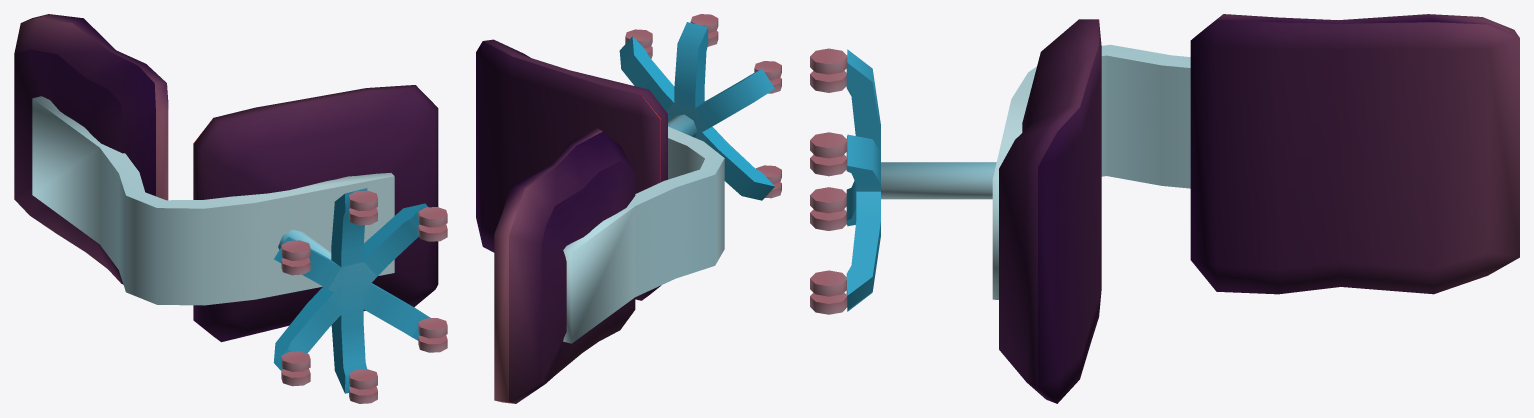
Rendered from ScienceChair.fbx.
3 renders of one model, left to right at view 1: azimuth 30°, elevation 25°; view 2: azimuth 150°, elevation 25°; view 3: azimuth 270°, elevation 25°, orthographic. The views are drawn at different scales.
Visible parts, largest first — view 1: Holder, Bottom Cushion, Top Cushion, Wheel Holder, Wheels, Adjuster; view 2: Top Cushion, Bottom Cushion, Holder, Wheel Holder, Wheels, Adjuster; view 3: Top Cushion, Bottom Cushion, Holder, Wheel Holder, Wheels, Adjuster.
Part boxes in pixels (<box>): Holder: <box>32,96,394,305</box>; Bottom Cushion: <box>193,85,438,342</box>; Top Cushion: <box>14,14,168,284</box>; Wheel Holder: <box>273,188,430,393</box>; Wheels: <box>281,190,447,403</box>; Adjuster: <box>278,229,331,259</box>; Top Cushion: <box>494,127,635,403</box>; Bottom Cushion: <box>476,39,667,300</box>; Holder: <box>563,126,724,343</box>; Wheel Holder: <box>619,22,774,200</box>; Wheels: <box>625,14,781,198</box>; Adjuster: <box>668,114,697,137</box>; Top Cushion: <box>1190,14,1519,294</box>; Bottom Cushion: <box>999,19,1101,403</box>; Holder: <box>992,44,1190,299</box>; Wheel Holder: <box>846,49,880,311</box>; Wheels: <box>810,48,847,314</box>; Adjuster: <box>881,162,996,199</box>.
Size of the model in its own units: 485 by 358 by 846.
